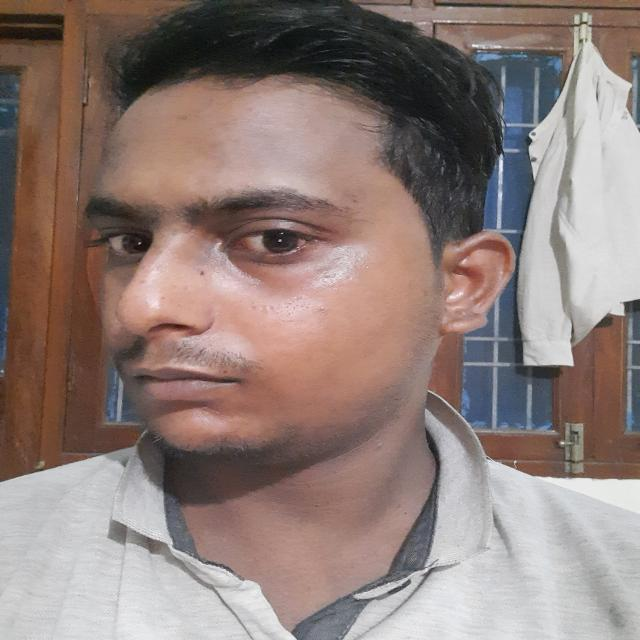Acne: (225, 422, 245, 435), (235, 181, 257, 191), (176, 110, 194, 120), (317, 305, 331, 317), (247, 101, 259, 113)
Englarged-Pores: (248, 296, 316, 328)
